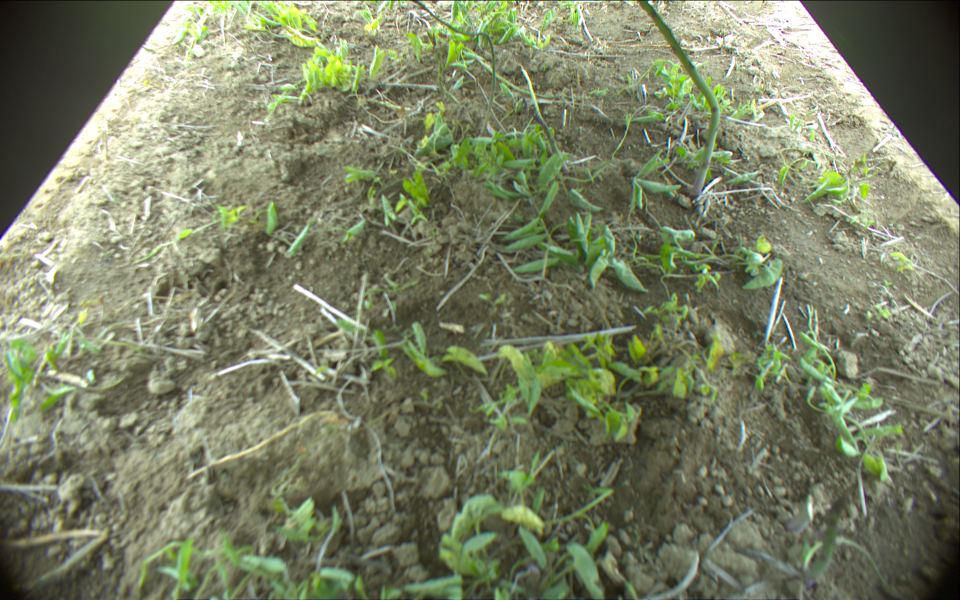aspa: (633, 1, 720, 202), (411, 1, 497, 144), (519, 65, 577, 190)
